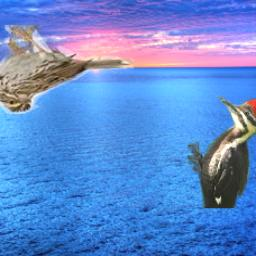Sparrow: (0, 25, 135, 114)
Woodpecker: (189, 95, 256, 208)
